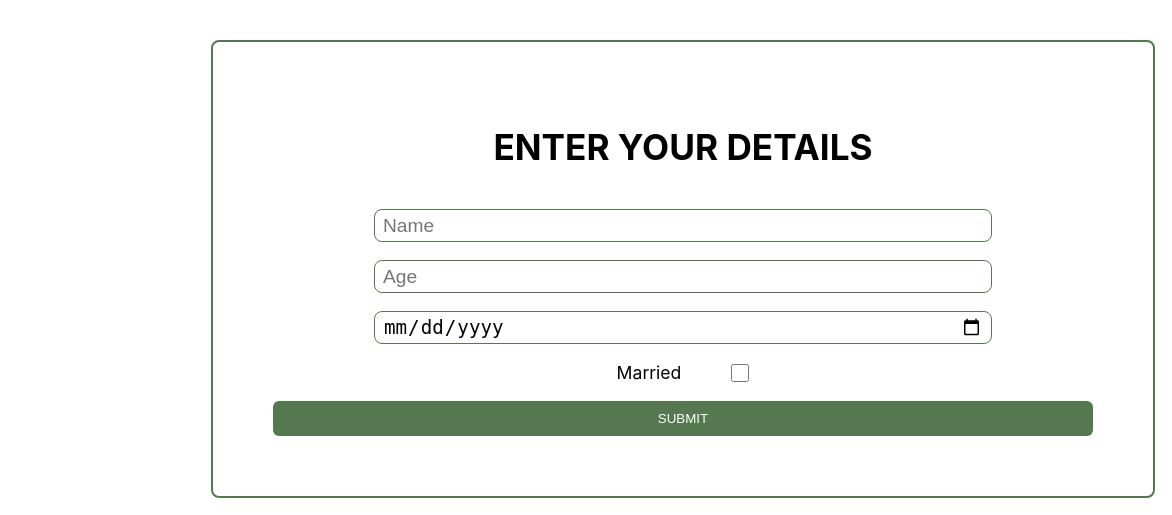
Scenario: CheckInfo Component › shows failure popup on unsuccessful fetch
Click the button "SUBMIT" at (683, 419), box [273,401,1093,436]
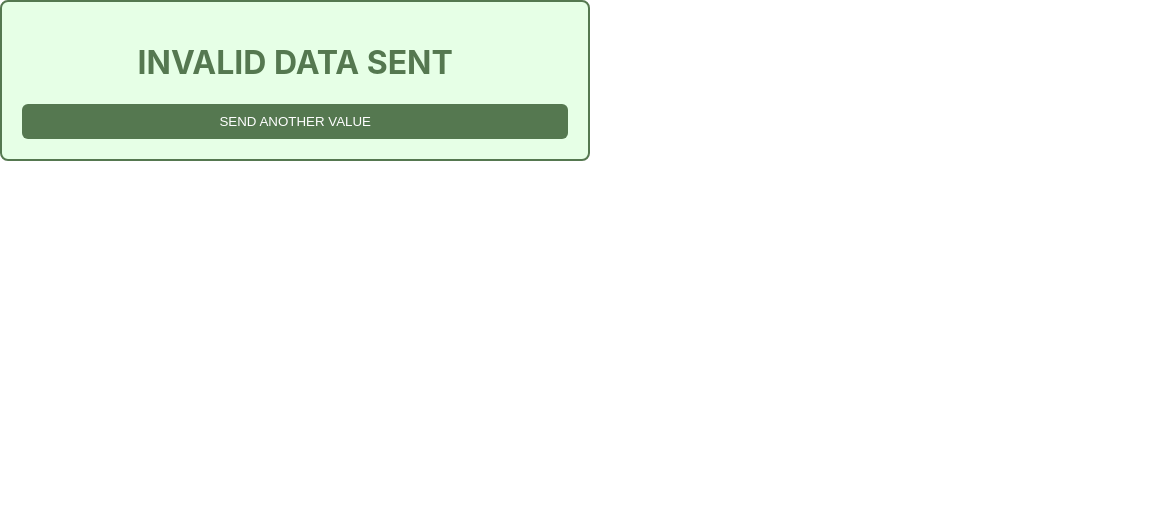
expect the heading "INVALID DATA SENT" is shown: met, box [138,43,453,82]
